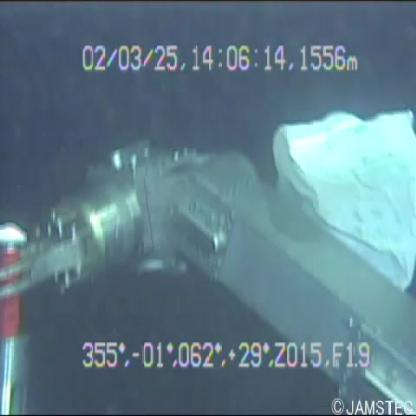Rov: (0, 112, 416, 415)
Rác: (274, 86, 416, 308)
